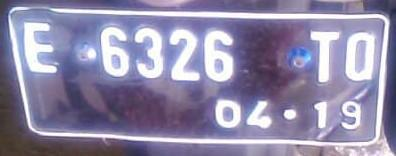2: (164, 25, 204, 83)
3: (127, 25, 168, 81)
6: (200, 26, 240, 85), (96, 22, 134, 80)
E: (18, 17, 64, 82)
Q: (342, 28, 376, 85)
T: (302, 27, 346, 87)
